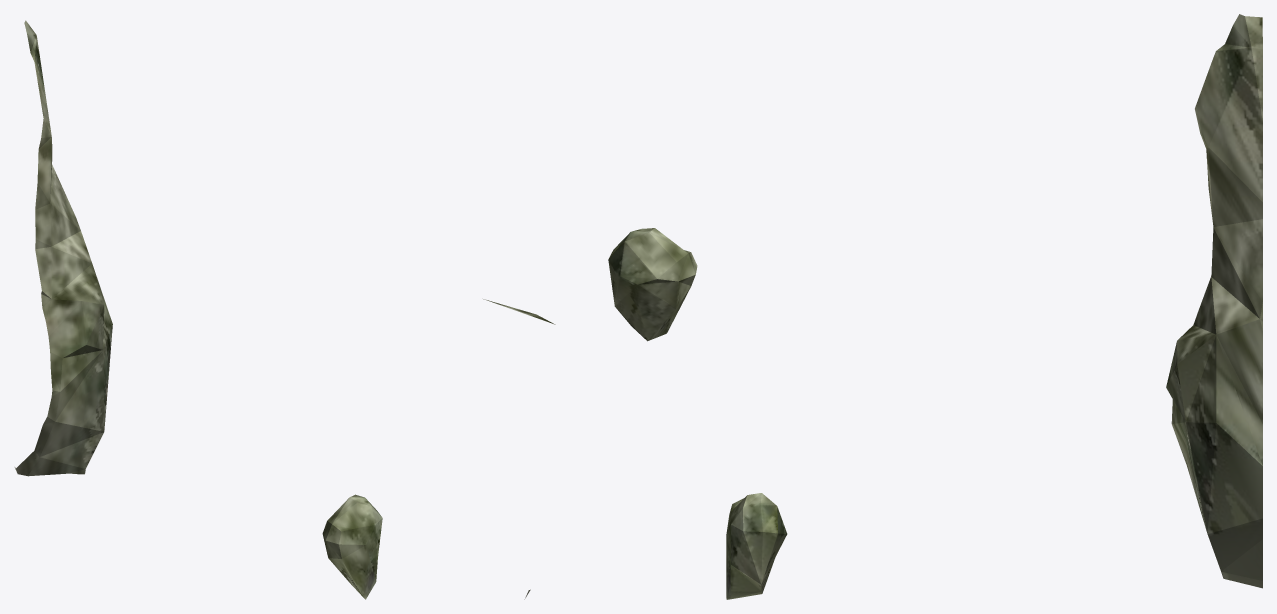
3 renders of one model, left to right at view 1: azimuth 30°, elevation 25°; view 2: azimuth 150°, elevation 25°; view 3: azimuth 270°, elevation 25°, orthographic. The views are drawn at different scales.
Size of the model in its own units: 0.9915 by 2.95 by 2.69.
Materials: 1 (1 with a texture image).
